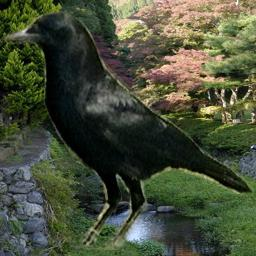Crow: (1, 11, 254, 250)
